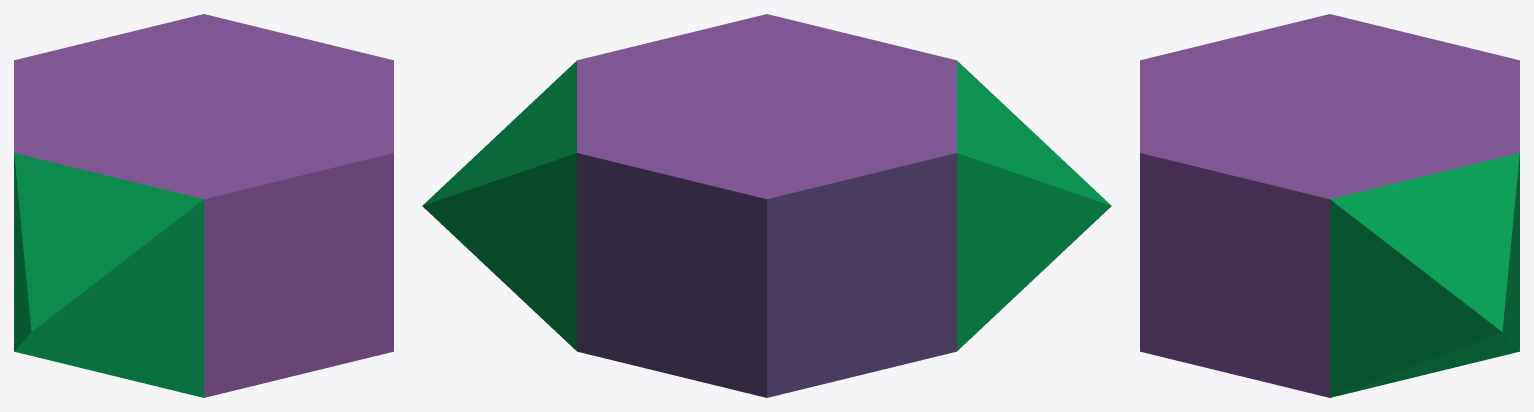
Rendered from J55.PrismaHexagonalParabiaumentado.gltf.
3 renders of one model, left to right at view 1: azimuth 30°, elevation 25°; view 2: azimuth 150°, elevation 25°; view 3: azimuth 270°, elevation 25°, orthographic.
Visible parts, largest first — view 1: J55.PrismaHexagonalParabiaumentado; view 2: J55.PrismaHexagonalParabiaumentado; view 3: J55.PrismaHexagonalParabiaumentado.
Part boxes in pixels (x1,y1,x2,y2): J55.PrismaHexagonalParabiaumentado: (14,14,393,397); J55.PrismaHexagonalParabiaumentado: (422,14,1111,397); J55.PrismaHexagonalParabiaumentado: (1140,14,1519,397).
Size of the model in its own units: 17.32 by 6.36 by 11.01.
